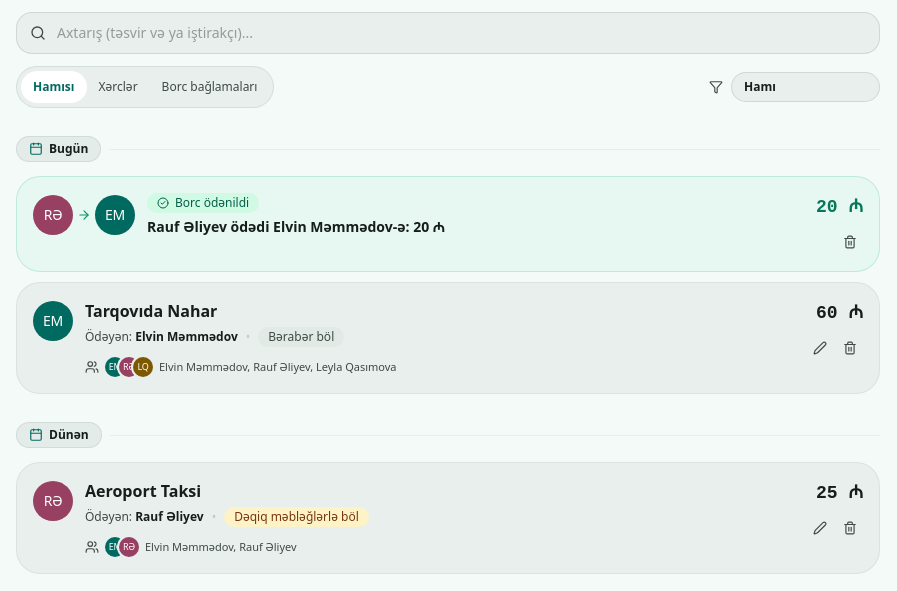
Test case: Task 7: Expense Management, Split Calculator & History Tab › HistoryTab Component › filters feed by selected participant dropdown
This screenshot has width=897, height=591.
Note: Filter by Leyla (p3) - only involved in e1, not e2 or s1
Select "Leyla Qasımova" in the dropdown named "Filter by participant". click: (806, 87)
box: [731, 72, 880, 102]
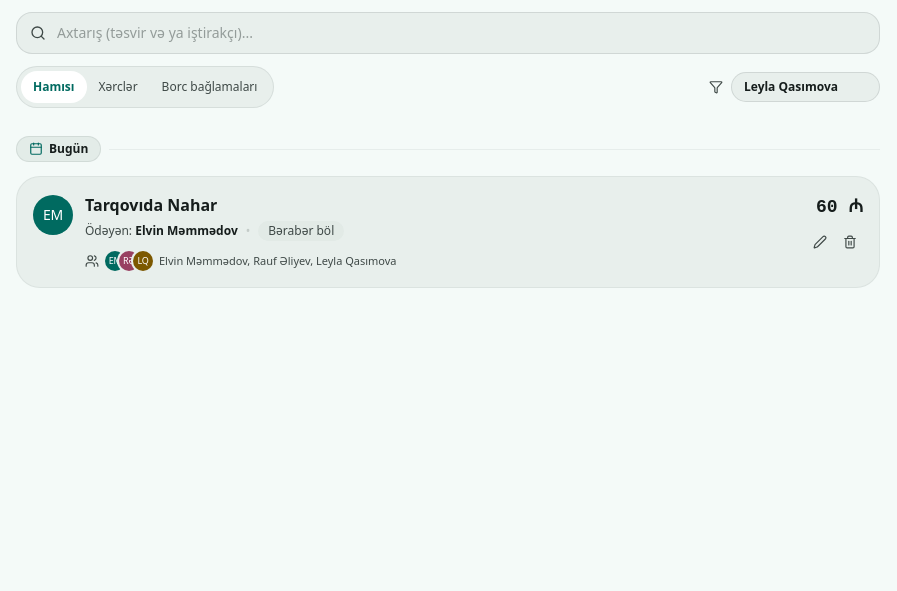
Expected: the heading "Tarqovıda Nahar" is shown, [85, 194, 217, 216]
Result: the heading "Aeroport Taksi" is gone
Result: the text "Borc ödənildi" is gone
